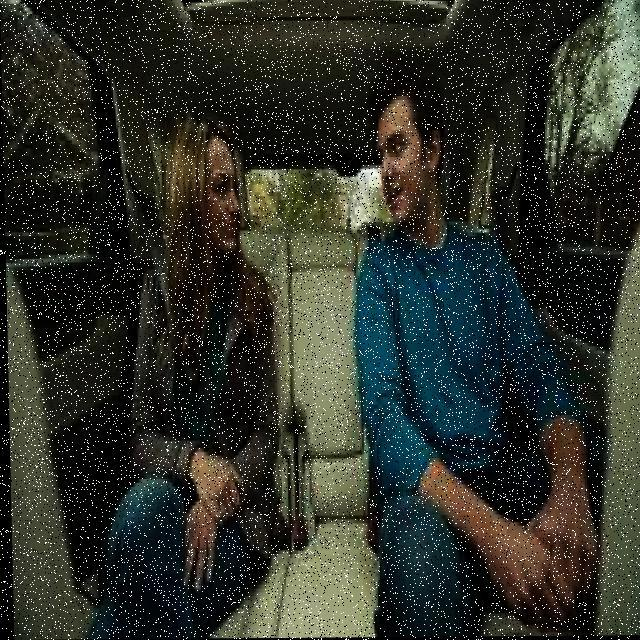noSeatbelt: (352, 229, 512, 456)
seatbelt: (130, 262, 263, 483)
